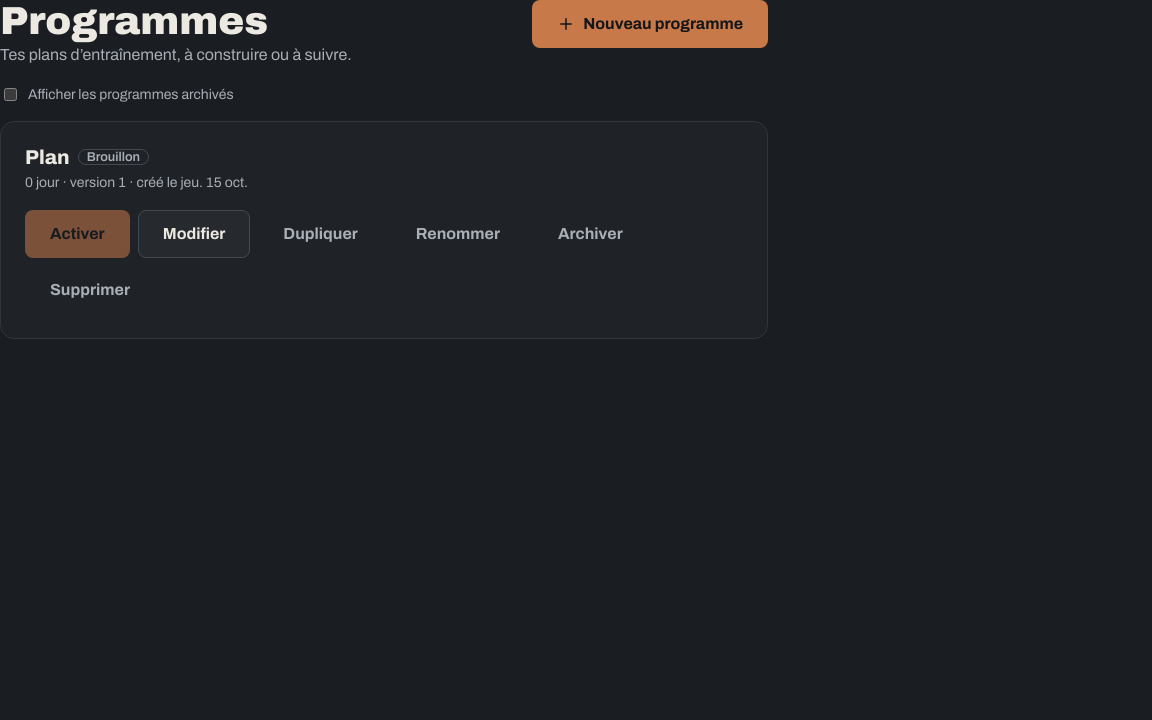
Test case: ProgramsView › supprime un programme après confirmation, en conseillant l’archivage
This screenshot has width=1152, height=720.
Click the button "Supprimer" at (90, 290), box [25,266,155,314]
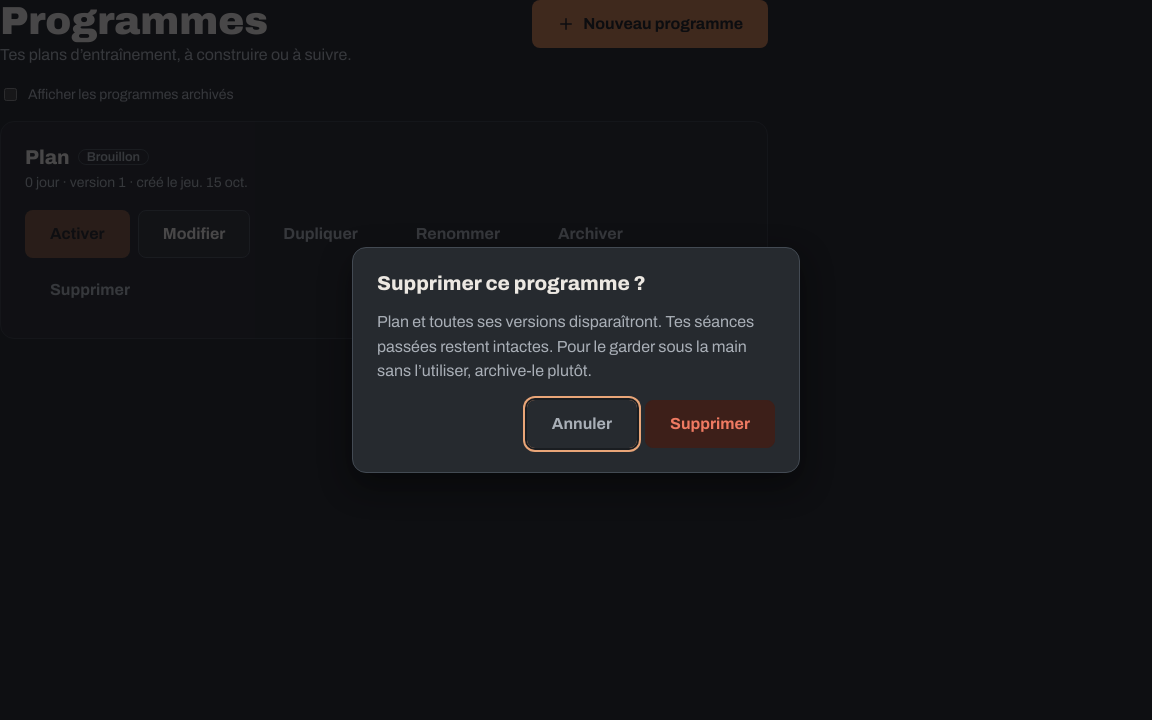
Now the dialog shows "Tes séances passées restent intactes", box [377,313,754,379]
Now the dialog shows "archive-le plutôt", box [377,313,754,379]
Now the dialog is shown, box [352,247,800,473]
Click the button "Supprimer" at (710, 424), box [645,400,775,448]
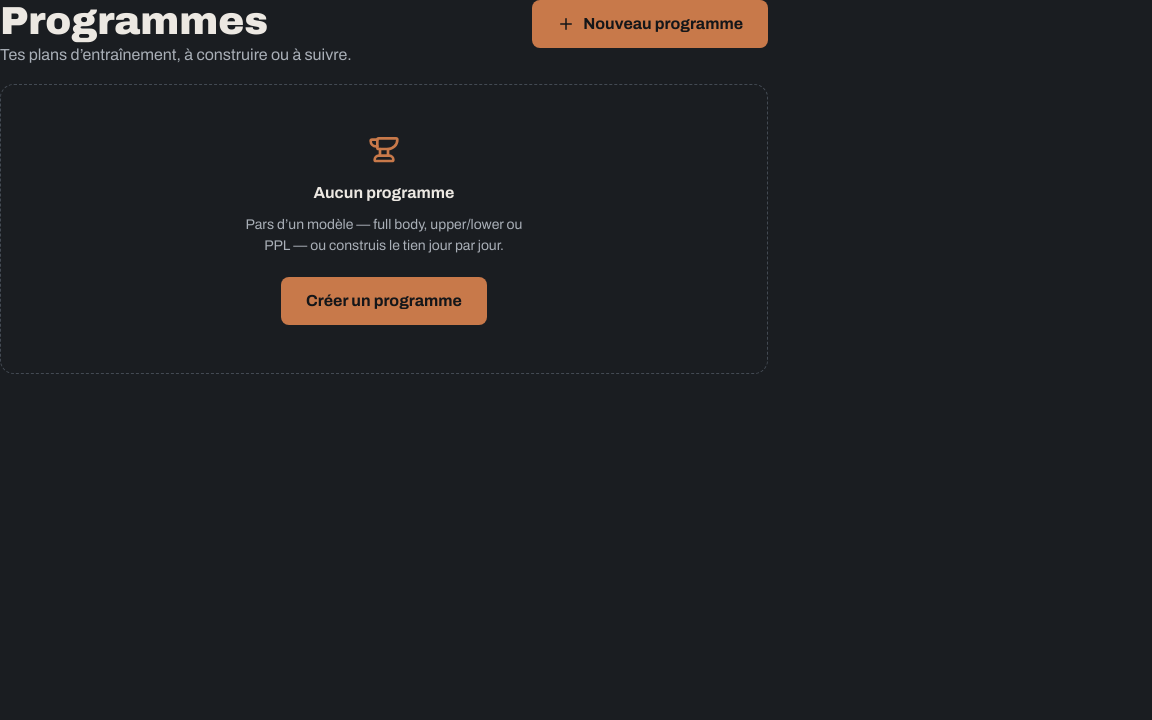
Now the text "Aucun programme" is shown, box [314,181,454,206]
